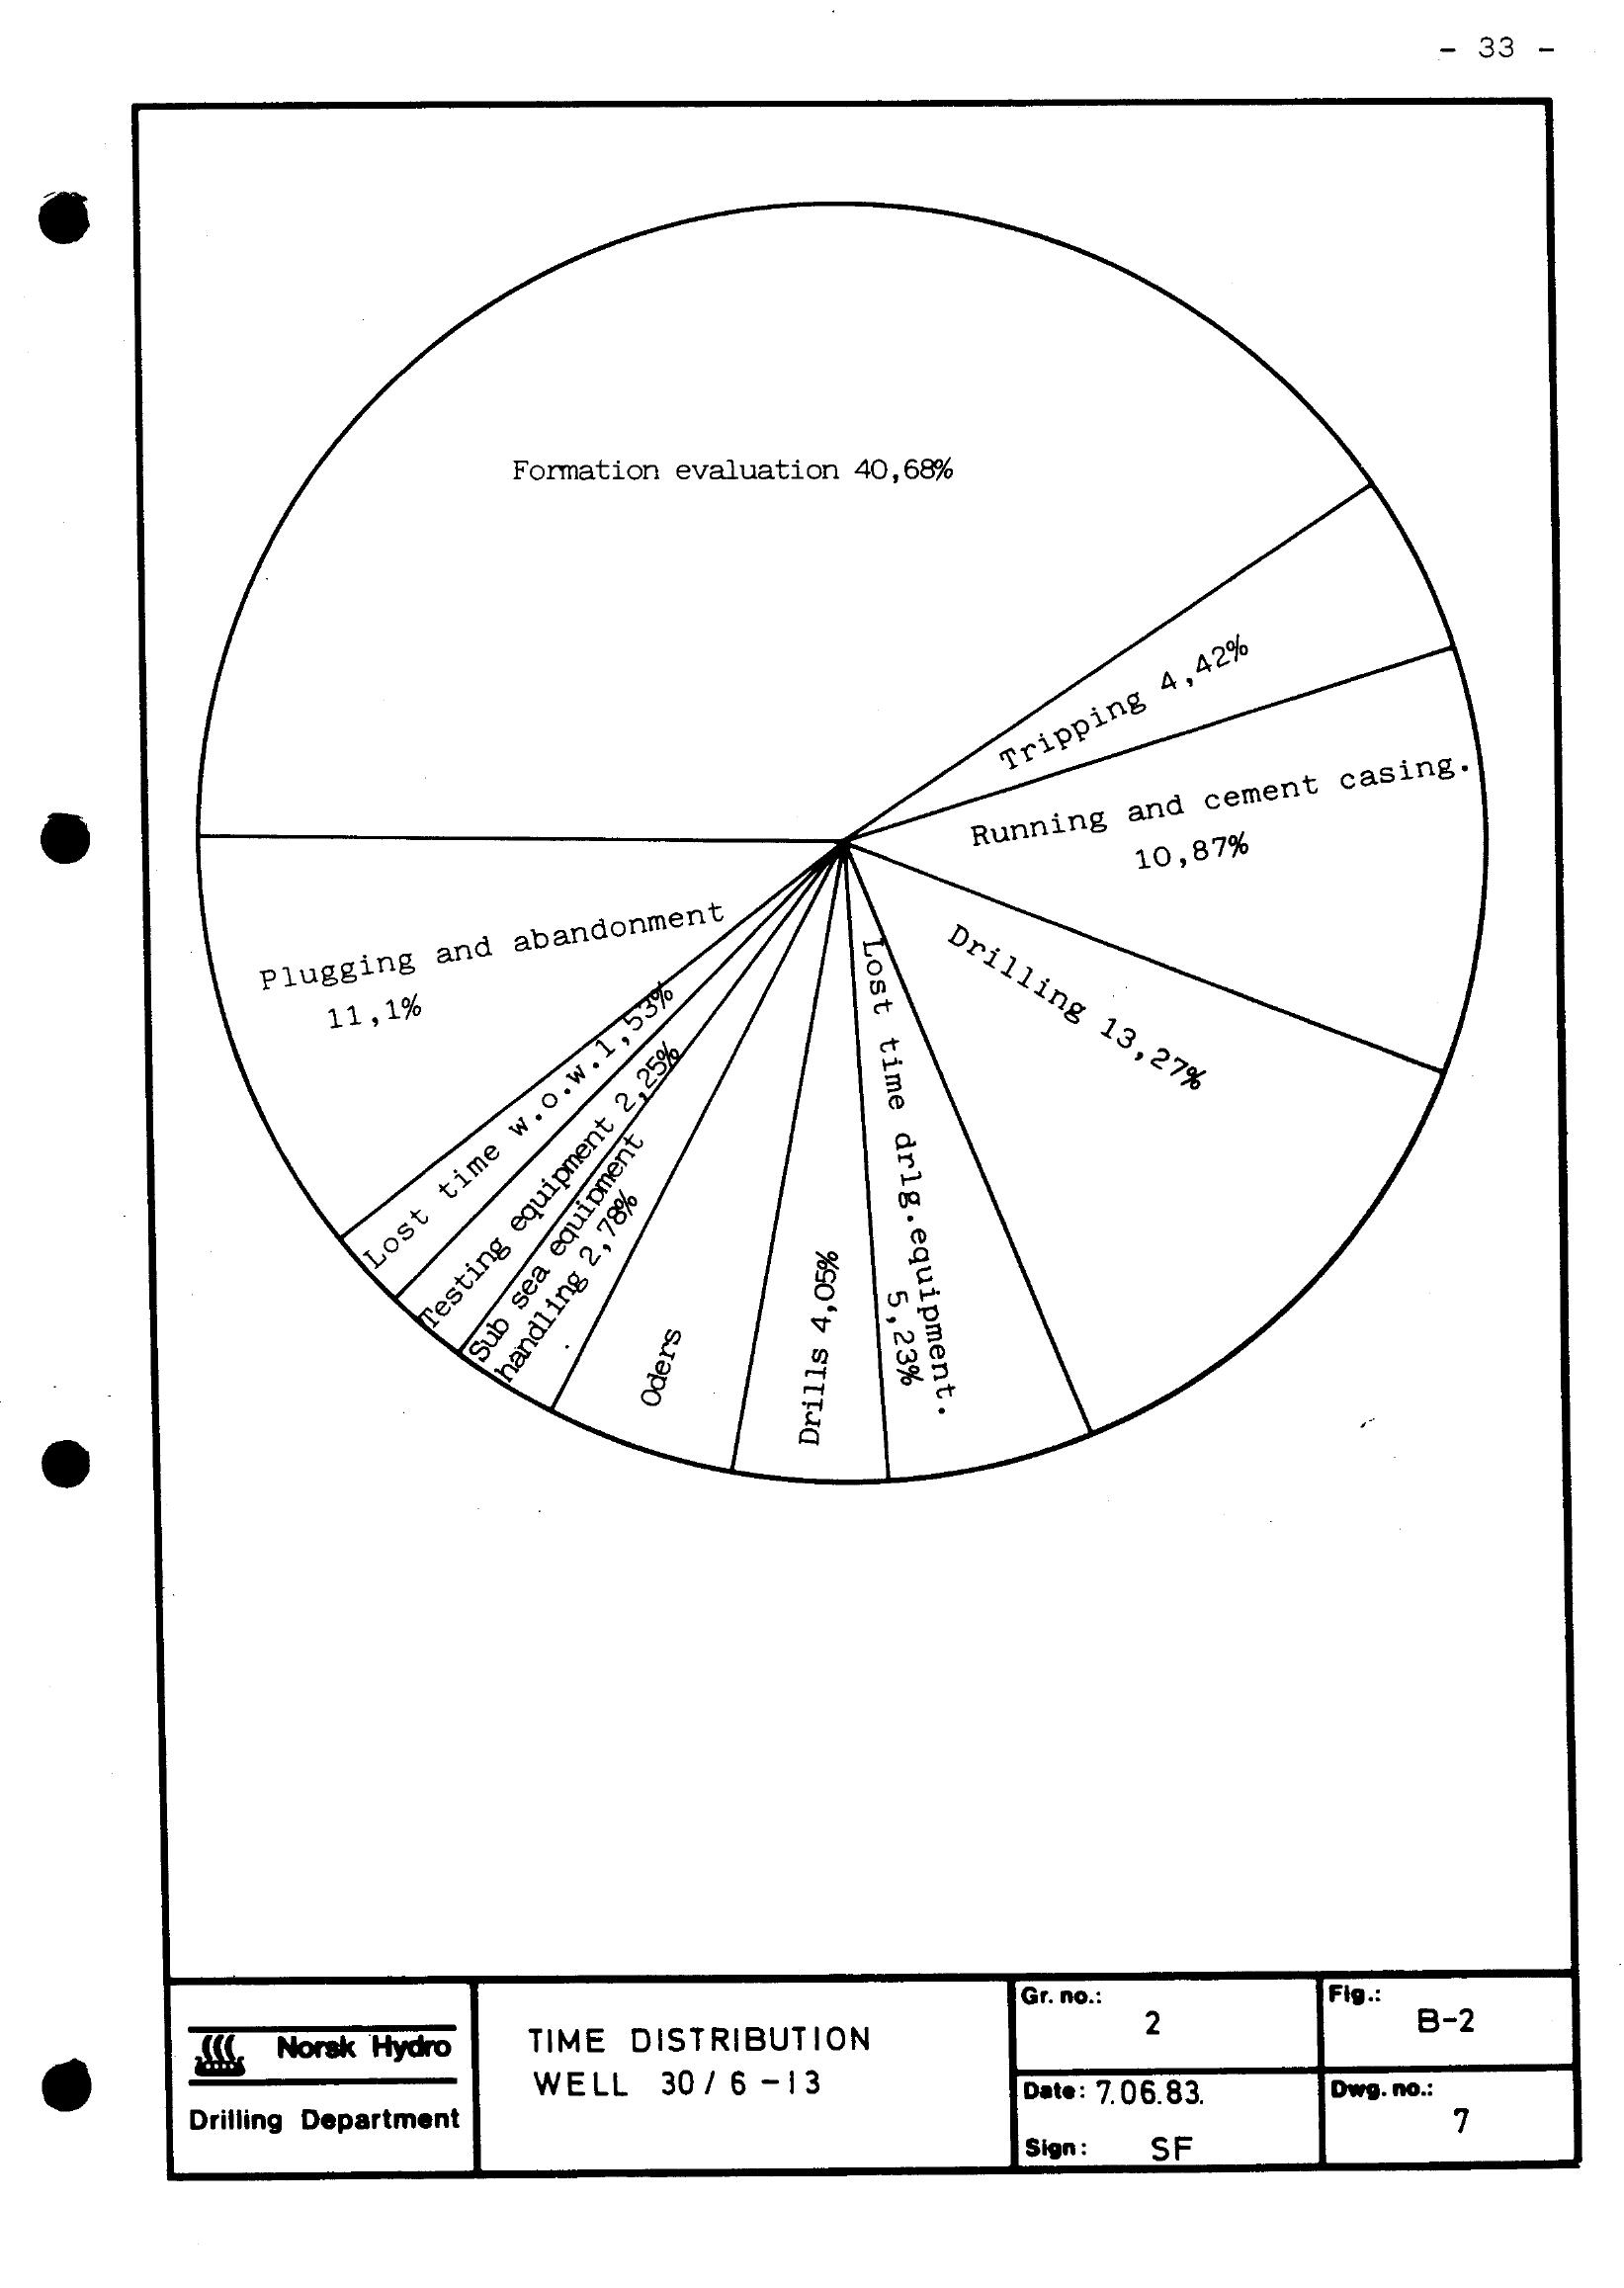graph: (114, 76, 1624, 2219)
